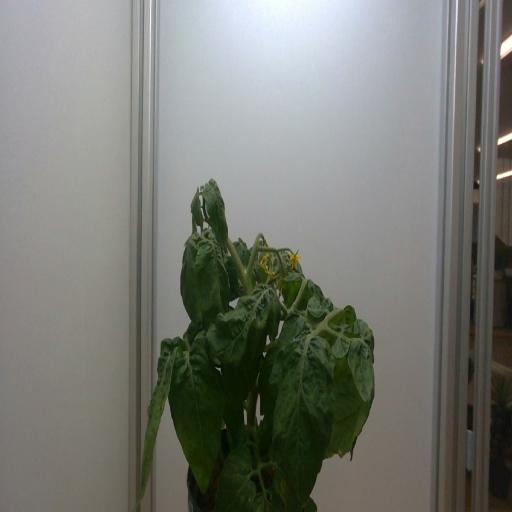Tomato-Leaves-Cupboard-: (270, 334, 336, 504), (168, 331, 226, 493), (323, 311, 378, 476), (212, 274, 278, 408), (128, 341, 177, 507), (191, 233, 234, 328), (205, 442, 253, 512), (176, 233, 201, 330), (201, 178, 231, 252), (266, 451, 301, 512), (220, 381, 250, 451), (276, 269, 328, 308), (256, 346, 283, 421), (274, 305, 308, 353), (224, 237, 250, 277), (249, 485, 286, 512), (303, 294, 333, 322), (334, 295, 360, 323), (328, 329, 349, 362), (188, 182, 198, 240), (260, 339, 274, 353)
